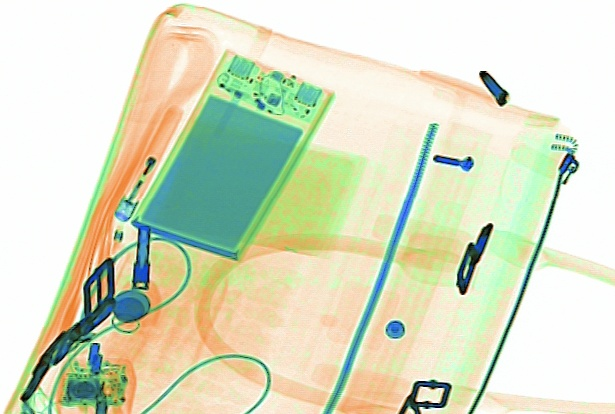lighter: (112, 102, 185, 227)
